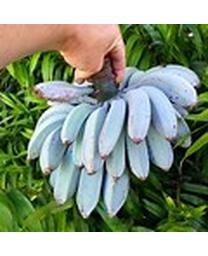banana: (27, 63, 200, 219)
